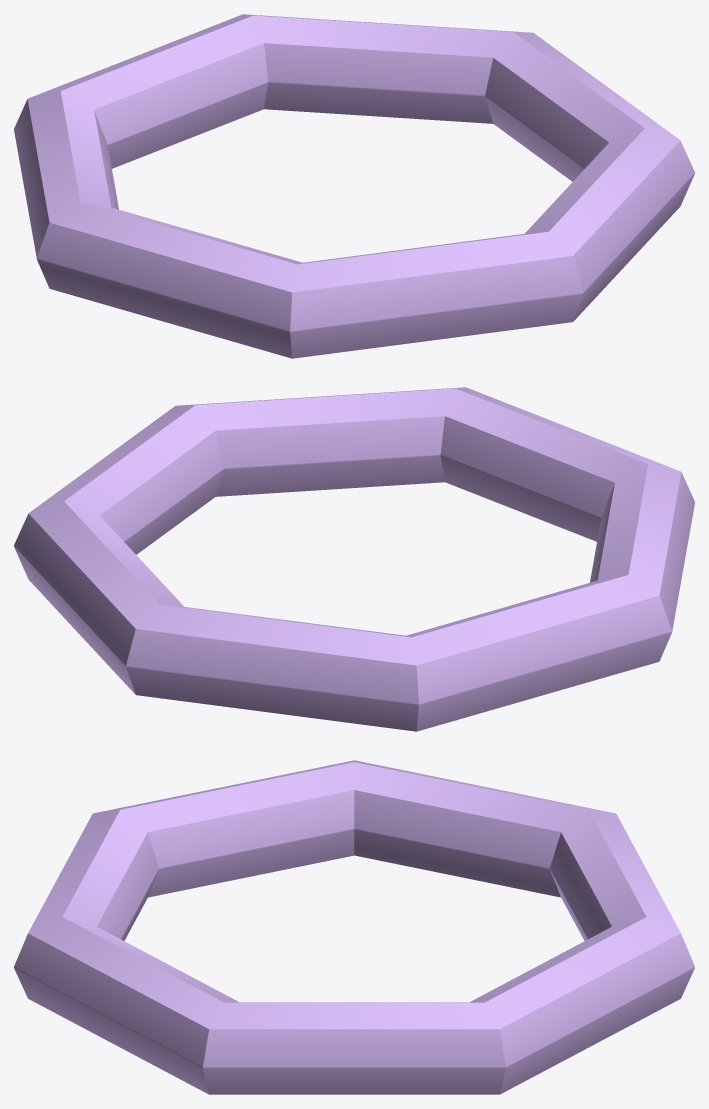
File: currency.fbx
3 renders of one model, top to bottom at view 1: azimuth 30°, elevation 25°; view 2: azimuth 150°, elevation 25°; view 3: azimuth 270°, elevation 25°, orthographic.
Parts seen in each view (by area): view 1: Plane; view 2: Plane; view 3: Plane.
Part boxes in pixels (x1,y1,x2,y2): Plane: [14, 14, 694, 358]; Plane: [14, 387, 694, 731]; Plane: [14, 760, 694, 1094].
Size of the model in its own units: 0.199 by 0.0303 by 0.2041.
